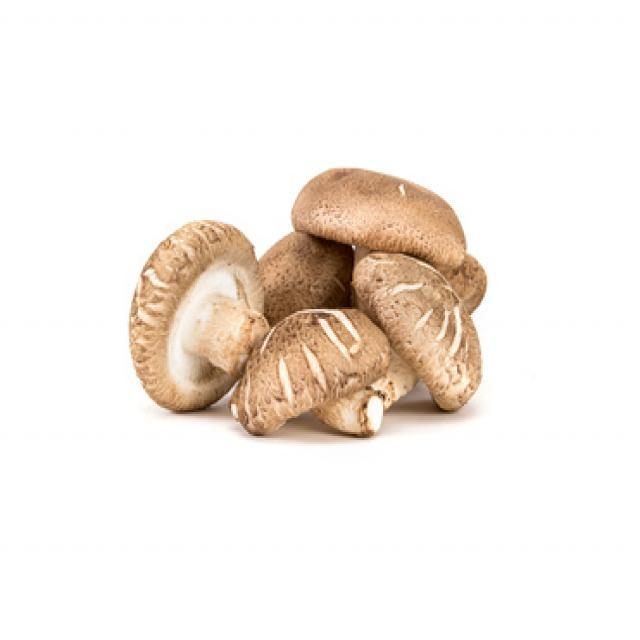Lentinus edodes: (130, 216, 267, 415), (237, 307, 390, 439), (351, 254, 481, 408), (293, 166, 464, 270)
